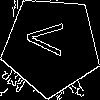V: (26, 21, 73, 57)
